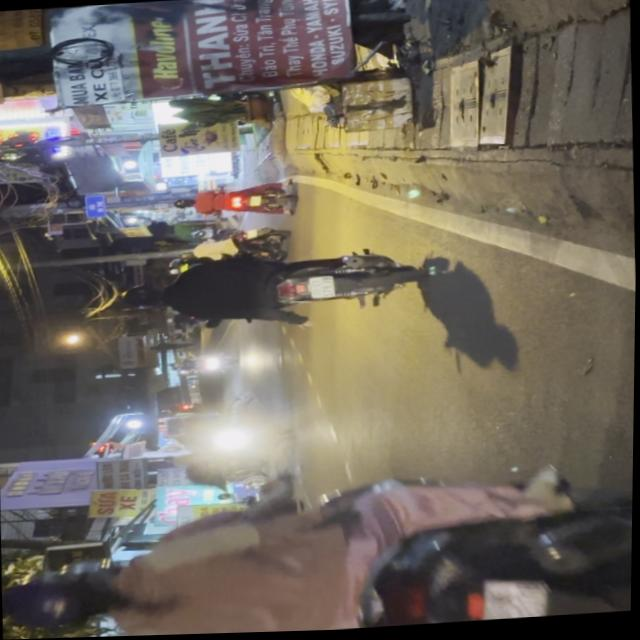helmet: (1, 566, 124, 635), (120, 284, 171, 314)
licenseplate: (0, 457, 635, 640), (117, 244, 421, 337)
nohelmet: (481, 582, 545, 623), (307, 278, 334, 302)
